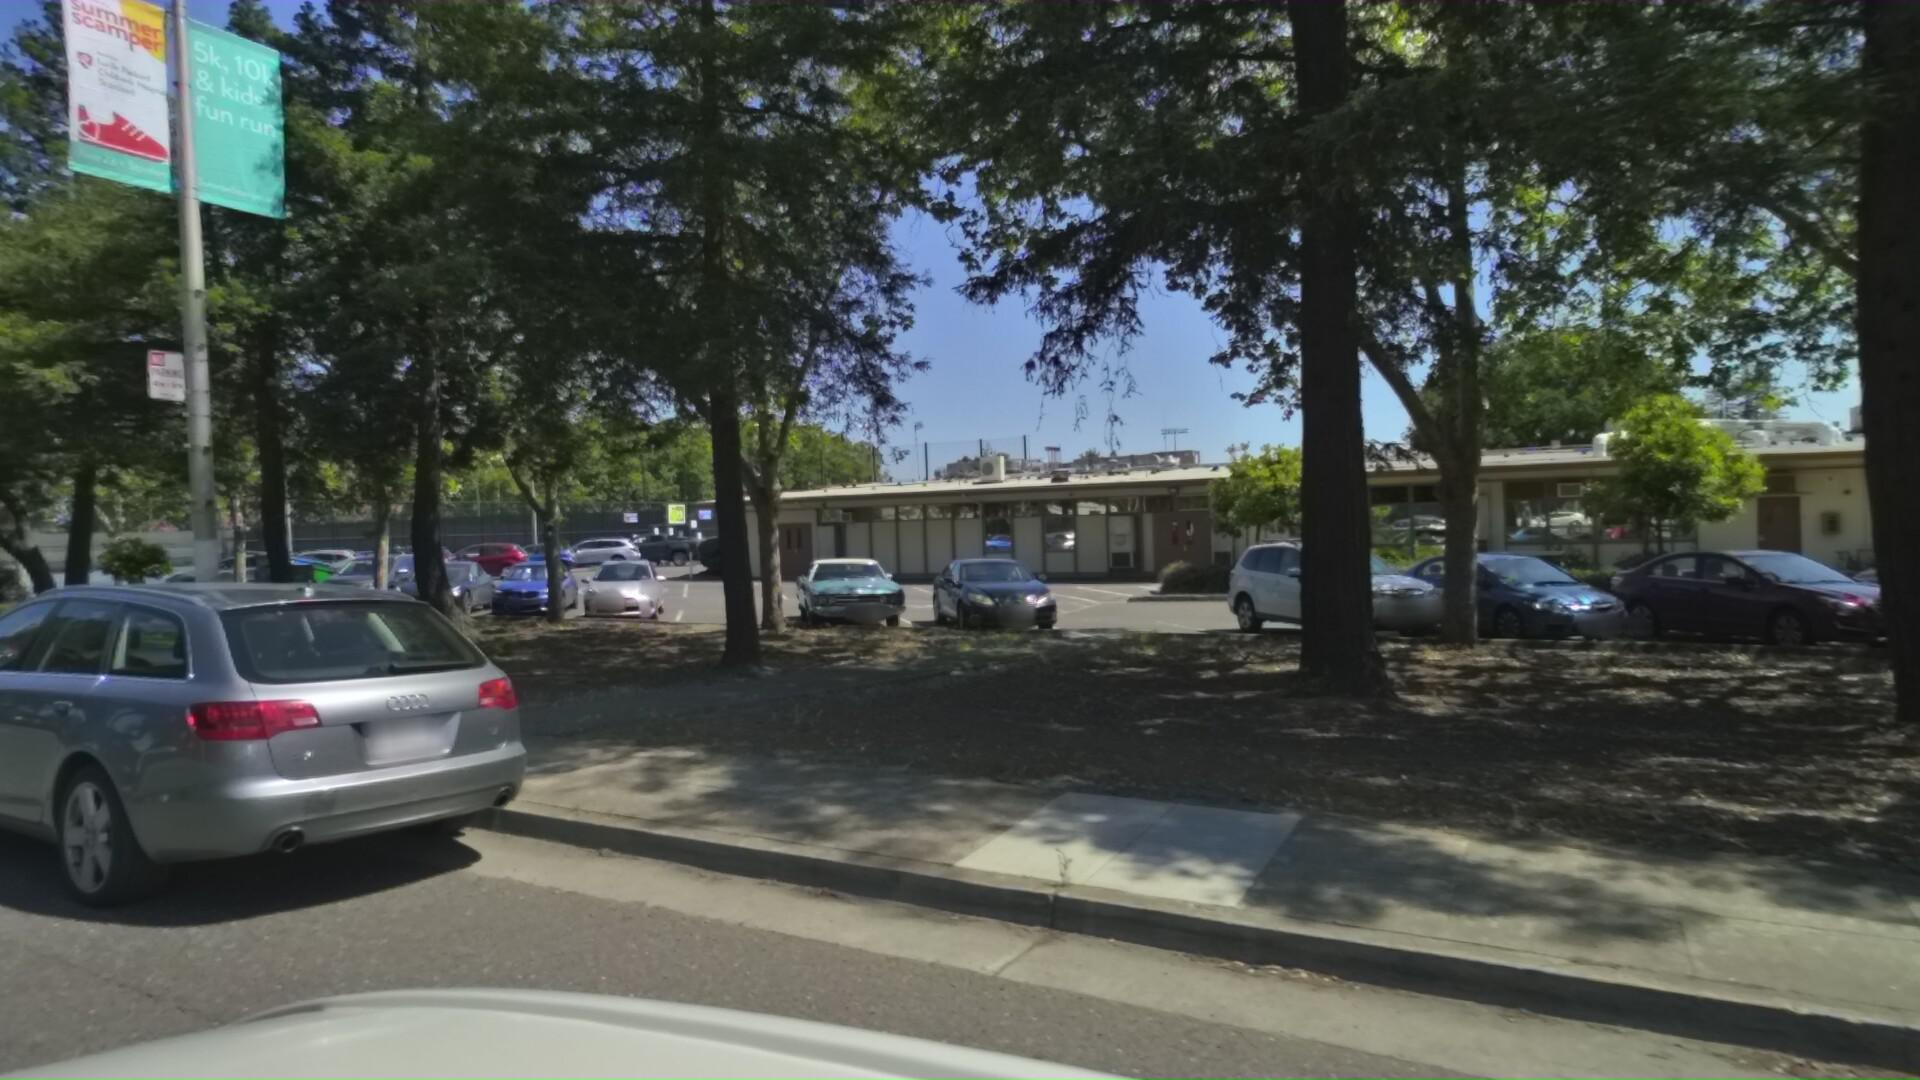car: (0, 556, 665, 996), (0, 563, 90, 818)
